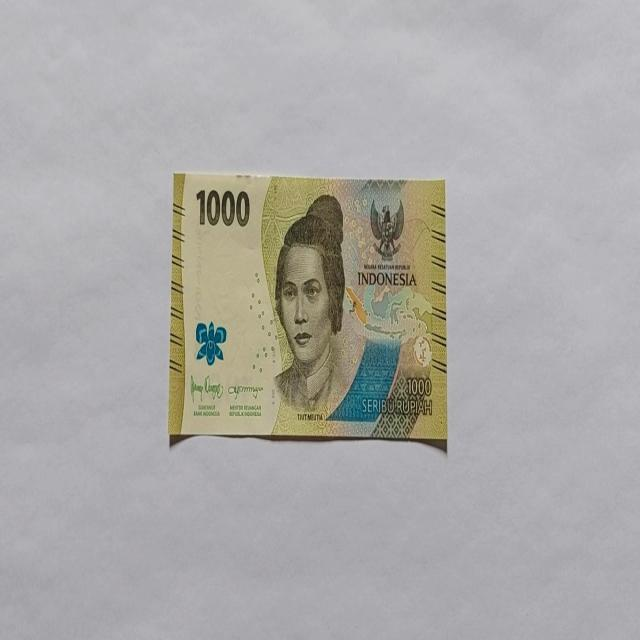seribu rupiah kertas: (167, 170, 447, 444)
